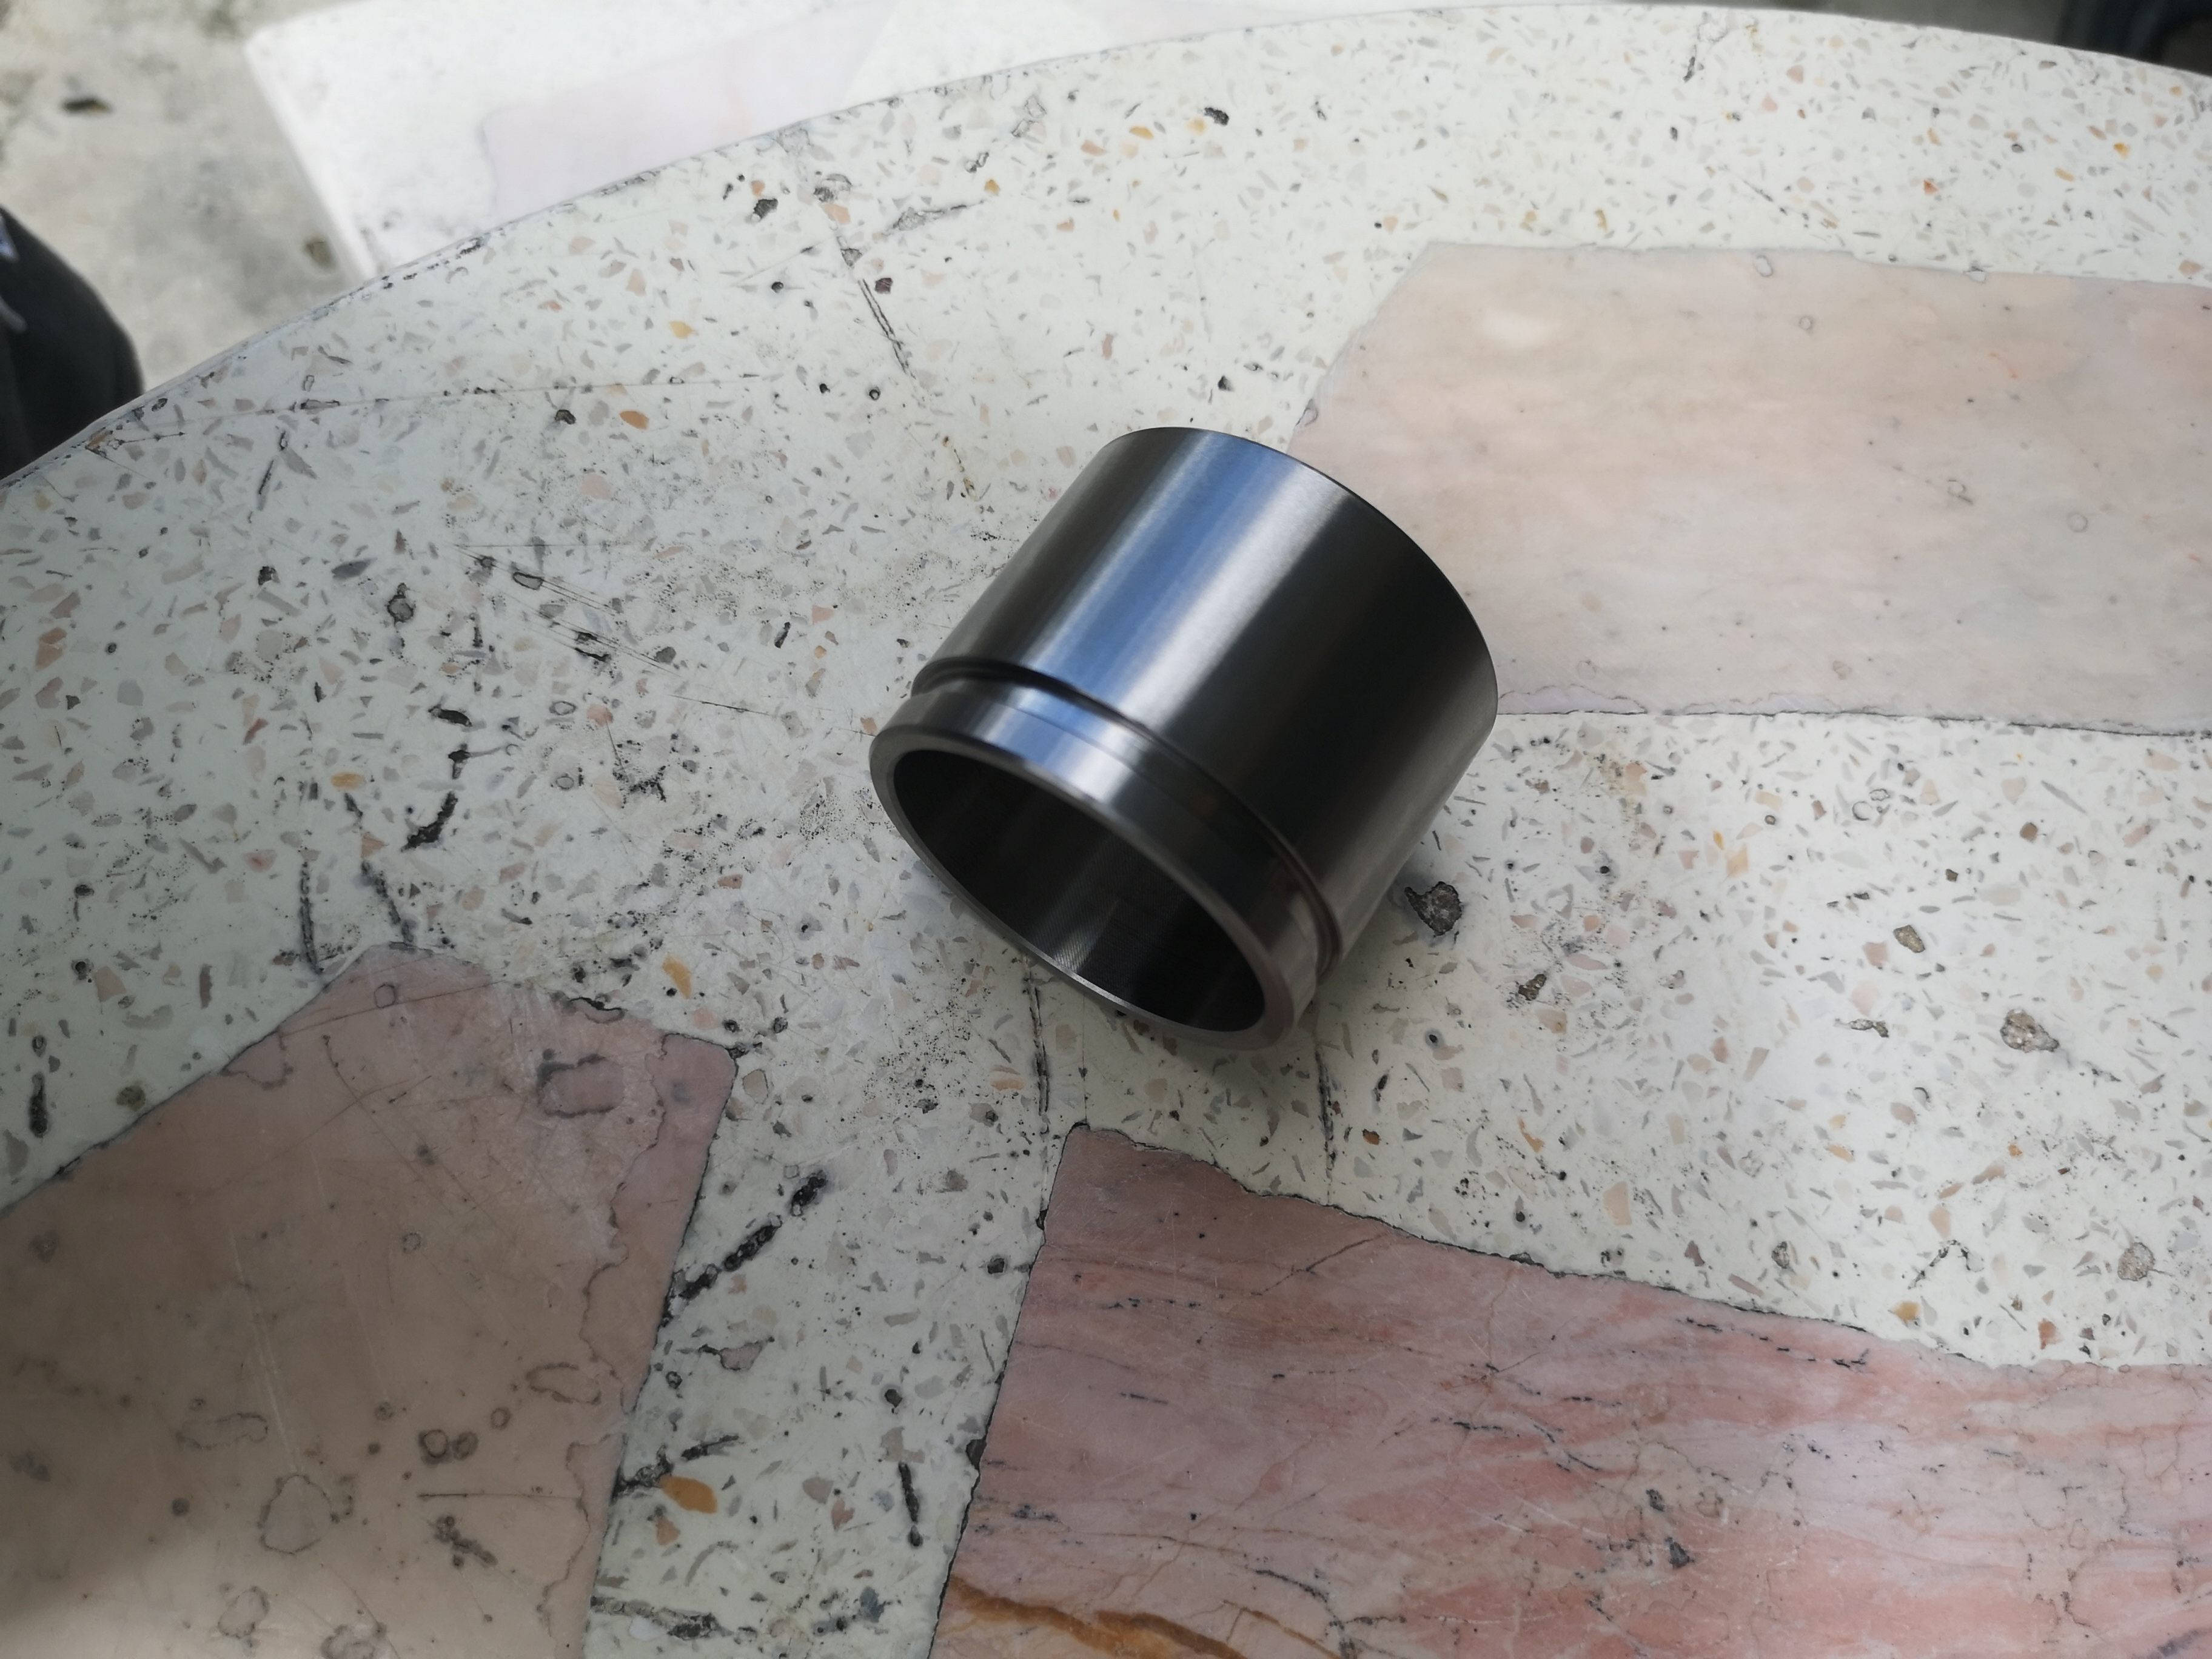ลูกสูบดิสเบรค: (897, 362, 1597, 1065)
